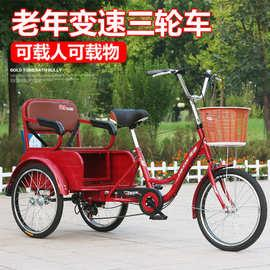empty: (22, 49, 270, 263)
